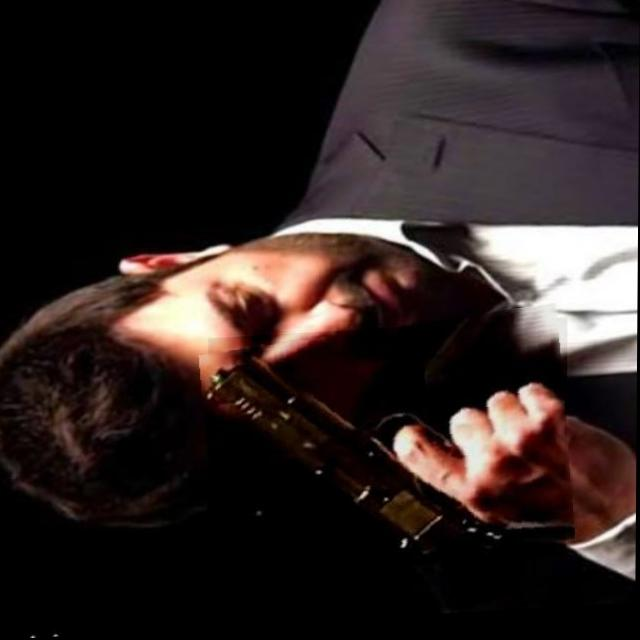handgun: (202, 317, 572, 587)
